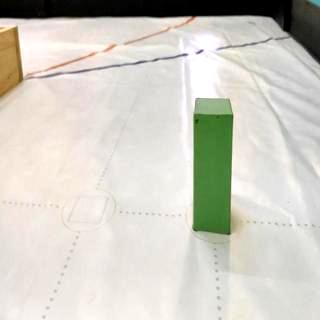greenbox: (193, 96, 235, 234)
